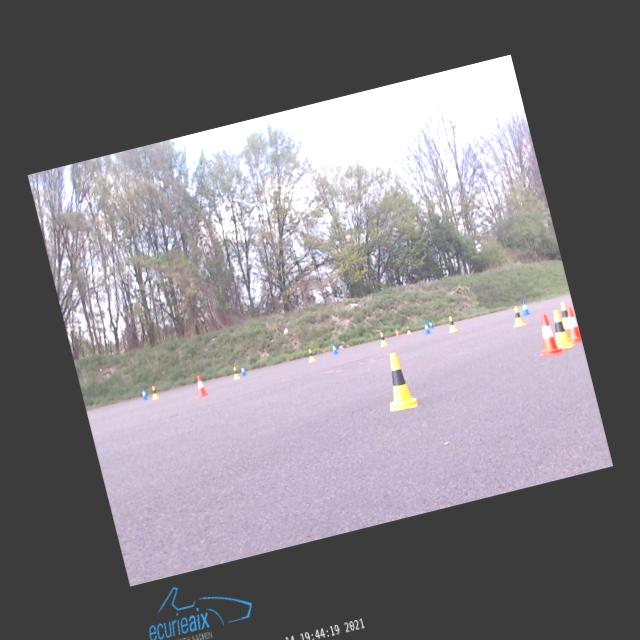blue_cone: (518, 298, 530, 315), (139, 386, 148, 401), (238, 364, 246, 376), (422, 322, 430, 334), (331, 342, 338, 354), (428, 321, 433, 328)
orange_cone: (531, 312, 564, 358), (562, 306, 582, 344), (192, 373, 208, 397), (394, 327, 399, 336)
yellow_cone: (377, 350, 418, 412), (548, 308, 574, 350), (509, 304, 525, 326), (558, 302, 570, 328), (445, 314, 457, 332), (148, 384, 160, 400), (305, 347, 316, 362), (230, 365, 240, 379), (378, 332, 388, 346), (405, 325, 411, 333)
